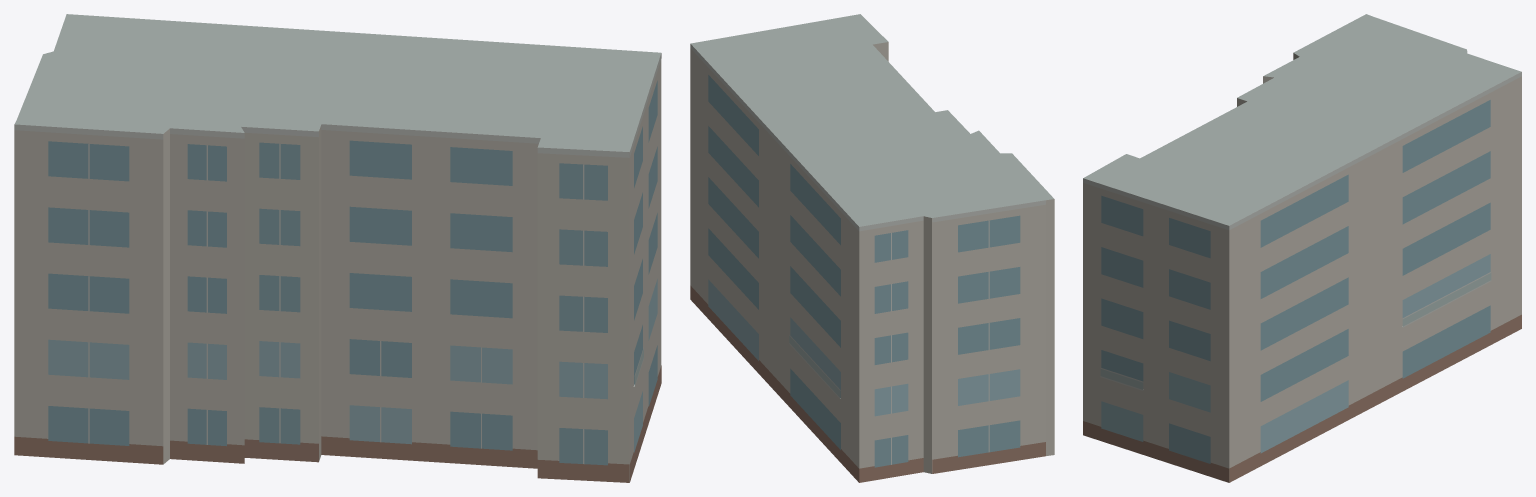
Rendered from survey-upis-32635993.glb.
The picture shows the model from 3 angles, left to right: view 1: azimuth 30°, elevation 25°; view 2: azimuth 150°, elevation 25°; view 3: azimuth 270°, elevation 25°; orthographic projection. The views are drawn at different scales.
Visible parts, largest first — view 1: survey-upis-32635993.tmp; view 2: survey-upis-32635993.tmp; view 3: survey-upis-32635993.tmp.
Boxes of the visible parts, <box> form: survey-upis-32635993.tmp: <box>14,14,661,482</box>; survey-upis-32635993.tmp: <box>690,14,1054,482</box>; survey-upis-32635993.tmp: <box>1083,14,1521,482</box>.
Bounding box in the file's own units: 24.85 × 14.05 × 21.75.
